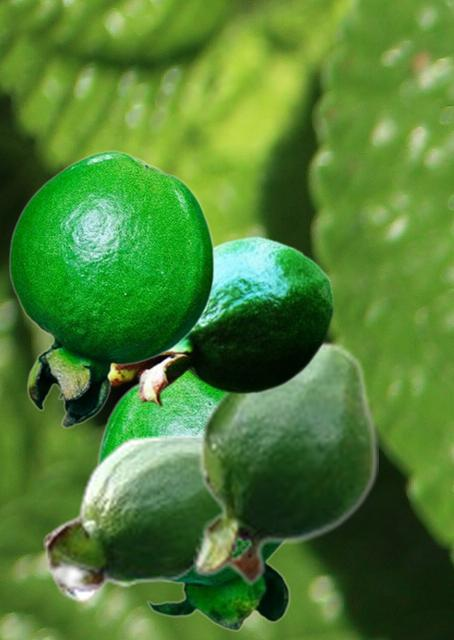guava: (8, 150, 214, 427), (95, 373, 291, 630), (193, 339, 377, 586), (110, 235, 334, 406), (43, 433, 219, 602)
